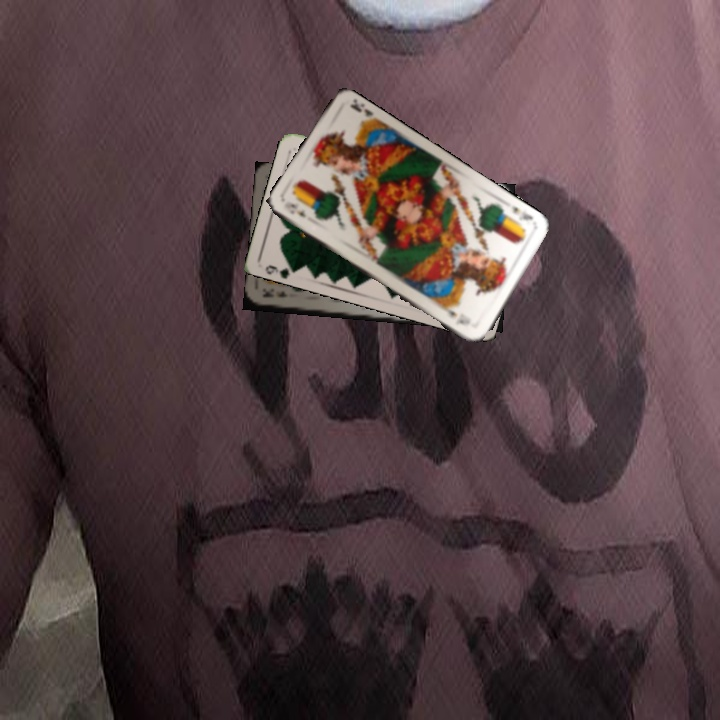EK: (280, 197, 308, 220), (507, 202, 536, 223), (259, 287, 290, 300)
G9: (261, 260, 301, 280)
